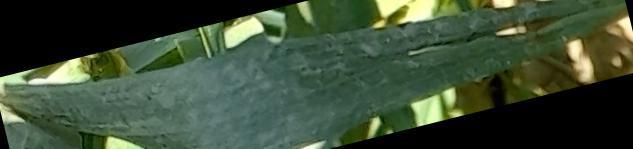Wheat: (56, 48, 301, 142), (311, 34, 422, 132)
